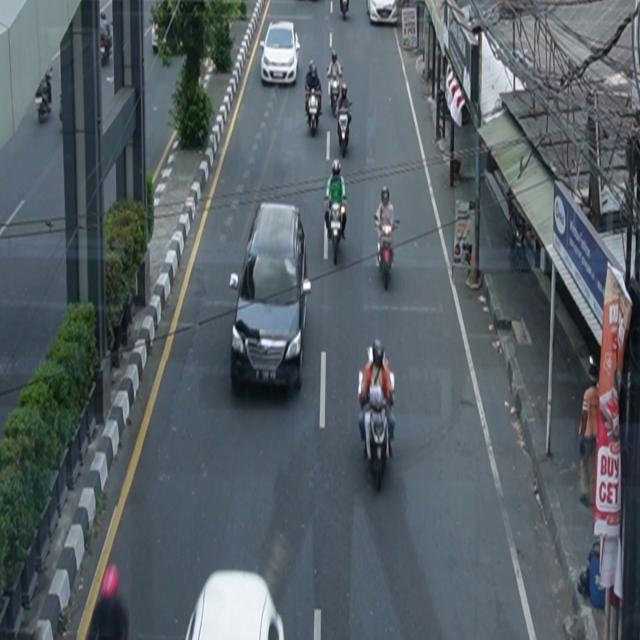car: (230, 202, 312, 396), (185, 570, 286, 640), (261, 21, 301, 87), (367, 1, 398, 26)
